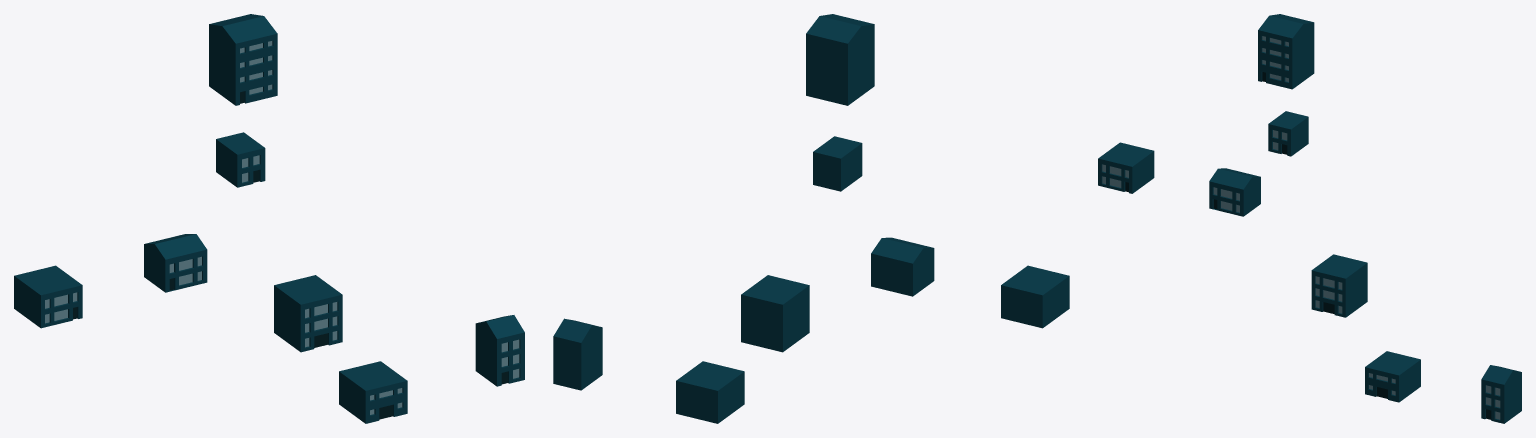
The model's file is BinaGrup1.gltf.
The picture shows the model from 3 angles, left to right: view 1: azimuth 30°, elevation 25°; view 2: azimuth 150°, elevation 25°; view 3: azimuth 330°, elevation 25°; orthographic projection. The views are drawn at different scales.
Visible parts, largest first — view 1: Building_037.016, Building_047.016, Building_055.016, Building_018.016, Building_069.014, Building_032.016, Building_038.016, Building_047.017, Building_037.017; view 2: Building_037.016, Building_047.016, Building_018.016, Building_055.016, Building_032.016, Building_069.014, Building_038.016; view 3: Building_037.016, Building_047.016, Building_055.016, Building_018.016, Building_069.014, Building_032.016, Building_038.016, Building_047.017.
Part boxes in pixels (x1,y1,x2,y2): Building_037.016: (209, 14, 277, 105); Building_047.016: (274, 275, 342, 352); Building_055.016: (339, 361, 407, 423); Building_018.016: (14, 265, 82, 328); Building_069.014: (475, 315, 524, 386); Building_032.016: (144, 234, 207, 292); Building_038.016: (216, 132, 265, 187); Building_047.017: (305, 302, 337, 347); Building_037.017: (240, 41, 272, 94); Building_037.016: (806, 14, 874, 105); Building_047.016: (741, 275, 809, 352); Building_018.016: (1001, 265, 1069, 328); Building_055.016: (676, 361, 744, 423); Building_032.016: (871, 237, 934, 296); Building_069.014: (553, 318, 602, 390); Building_038.016: (813, 136, 862, 191); Building_037.016: (1258, 14, 1314, 89); Building_047.016: (1311, 254, 1367, 317); Building_055.016: (1365, 351, 1420, 402); Building_018.016: (1098, 142, 1154, 193); Building_069.014: (1481, 365, 1521, 423); Building_032.016: (1209, 168, 1260, 216); Building_038.016: (1268, 111, 1308, 156); Building_047.017: (1315, 276, 1342, 313).
Bounding box in the file's own units: 0.573 × 0.4696 × 0.0543.
